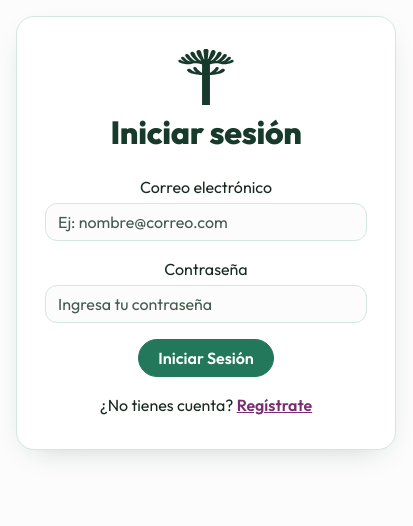
Test: OrganismoLogin › muestra los errores y no avisa a la página si se envía vacío
Click the button "Iniciar Sesión" at x=206, y=358, box [138, 339, 274, 377]
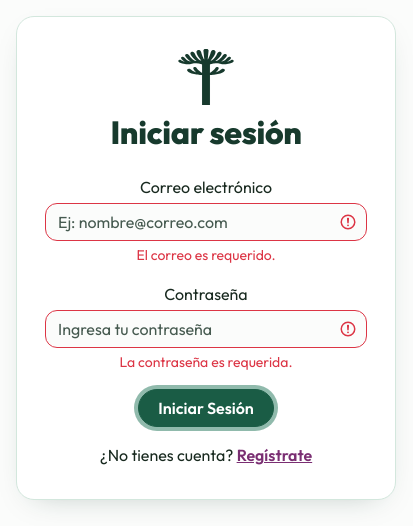
Expected: the text "El correo es requerido." is shown, [136, 246, 276, 264]
Expected: the text "La contraseña es requerida." is shown, [120, 353, 292, 371]
